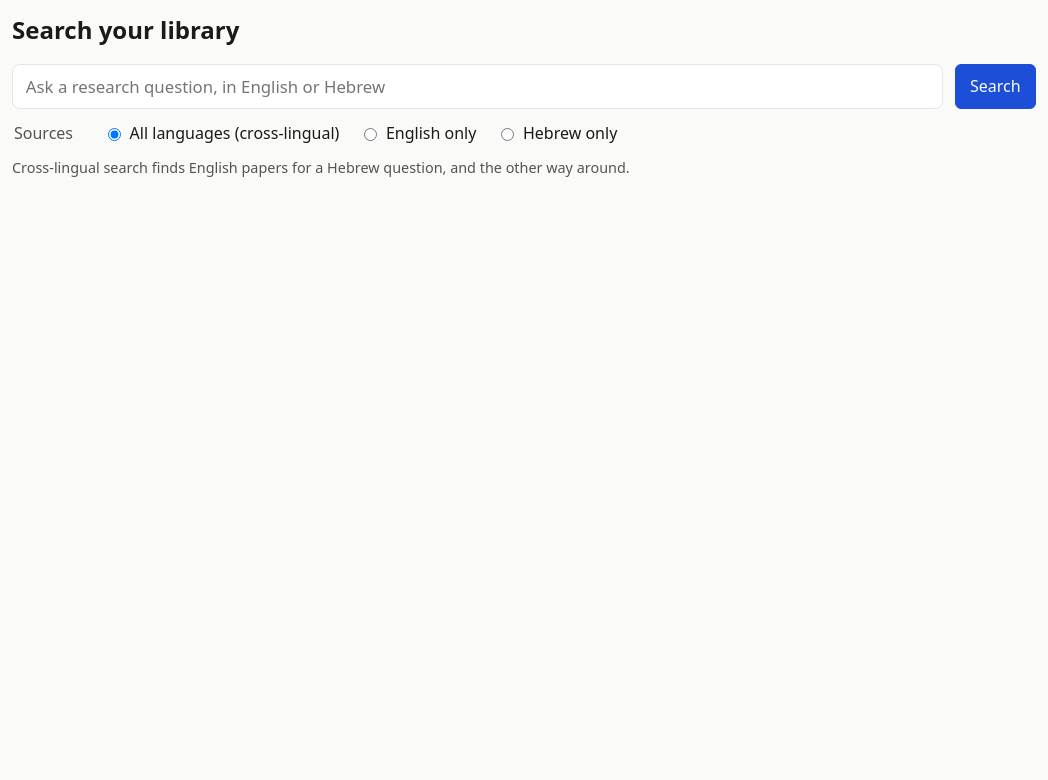
Test: SearchPage › applies the source language filter
Expected: the search field is shown, [12, 64, 943, 109]
Click the radio button labelled "Hebrew only" at coordinates (508, 134), box [501, 128, 514, 141]
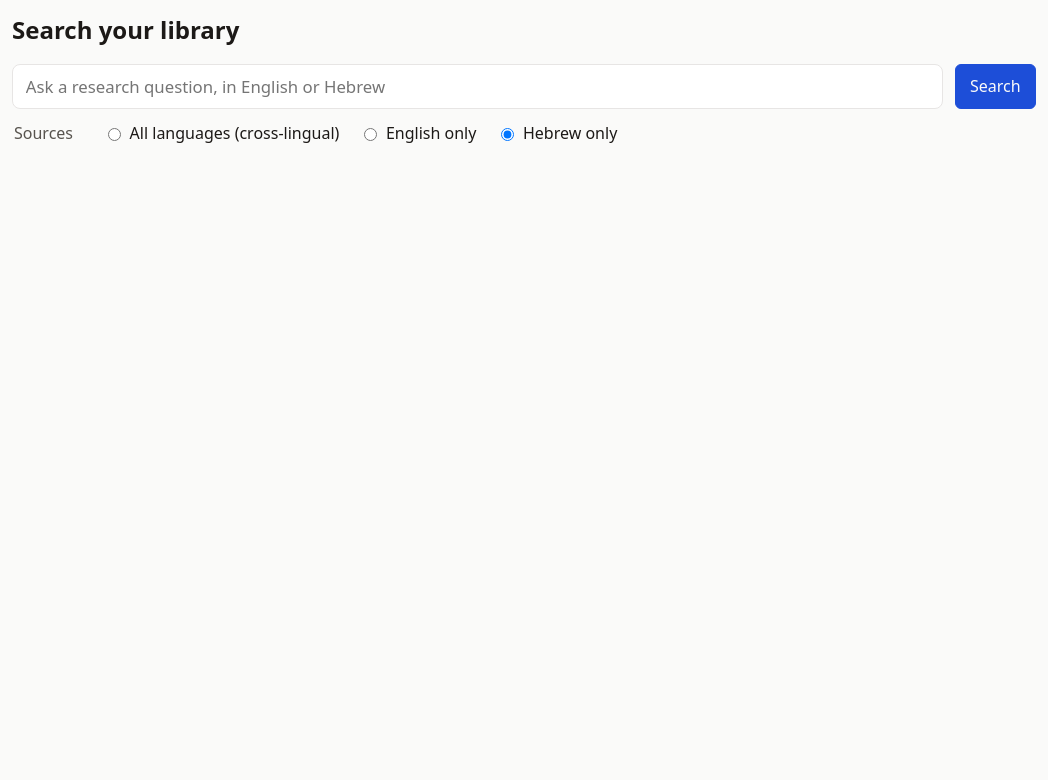
Type "sleep" into the search field at coordinates (477, 86), box [12, 64, 943, 109]
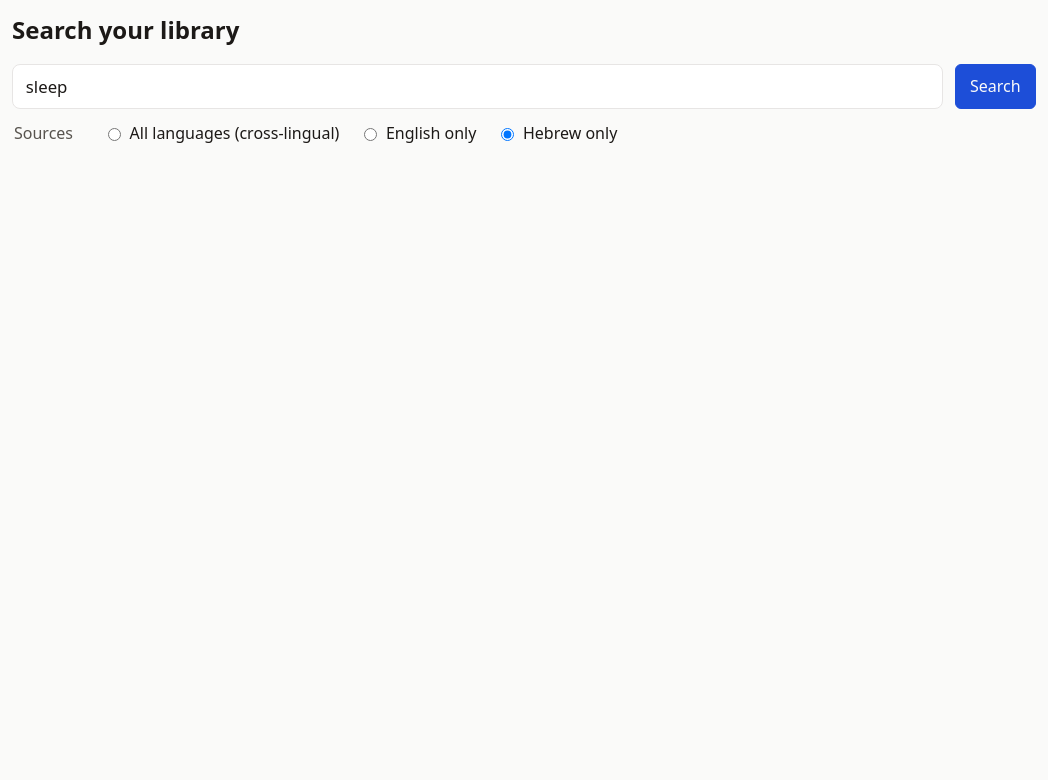
Click the button "Search" at coordinates (995, 86), box [955, 64, 1036, 109]
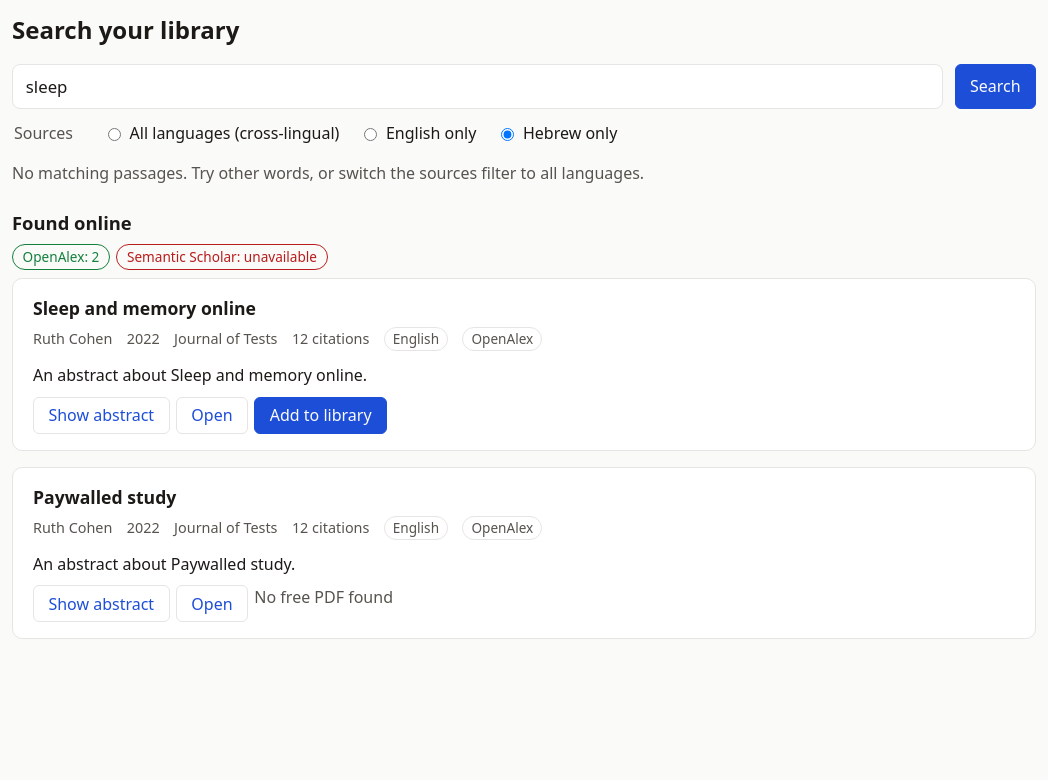
Result: the text "No matching passages" is shown at [12, 162, 644, 184]
